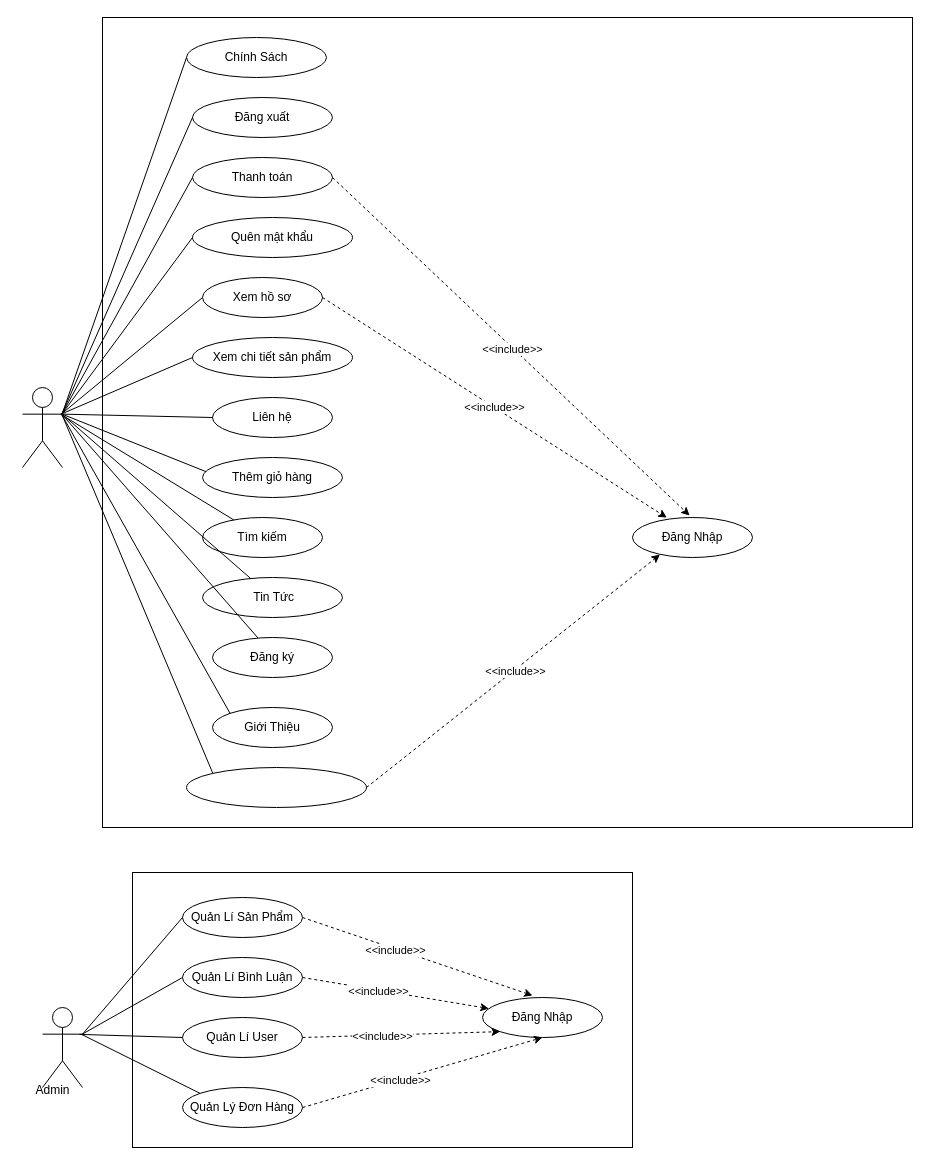
Some shapes in this 930 by 1165 pixel diagram are drawn without their labels. Each missing label, with the centre of its shape:
"User" belongs at point (42, 427).
"Đánh giá/Bình luận" belongs at point (276, 787).
